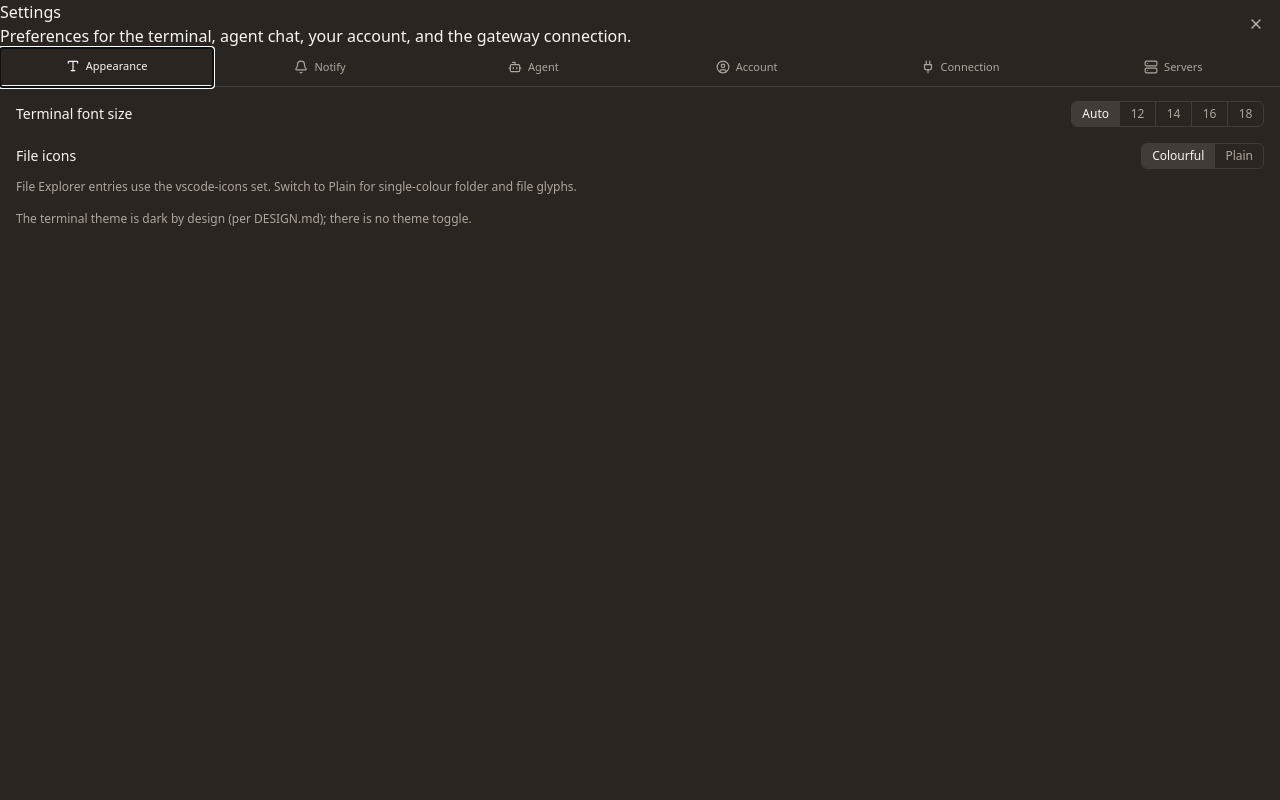
Scenario: SettingsDialog › shows connection details on the Connection tab
Click the tab "Connection" at (960, 67), box [853, 48, 1067, 86]
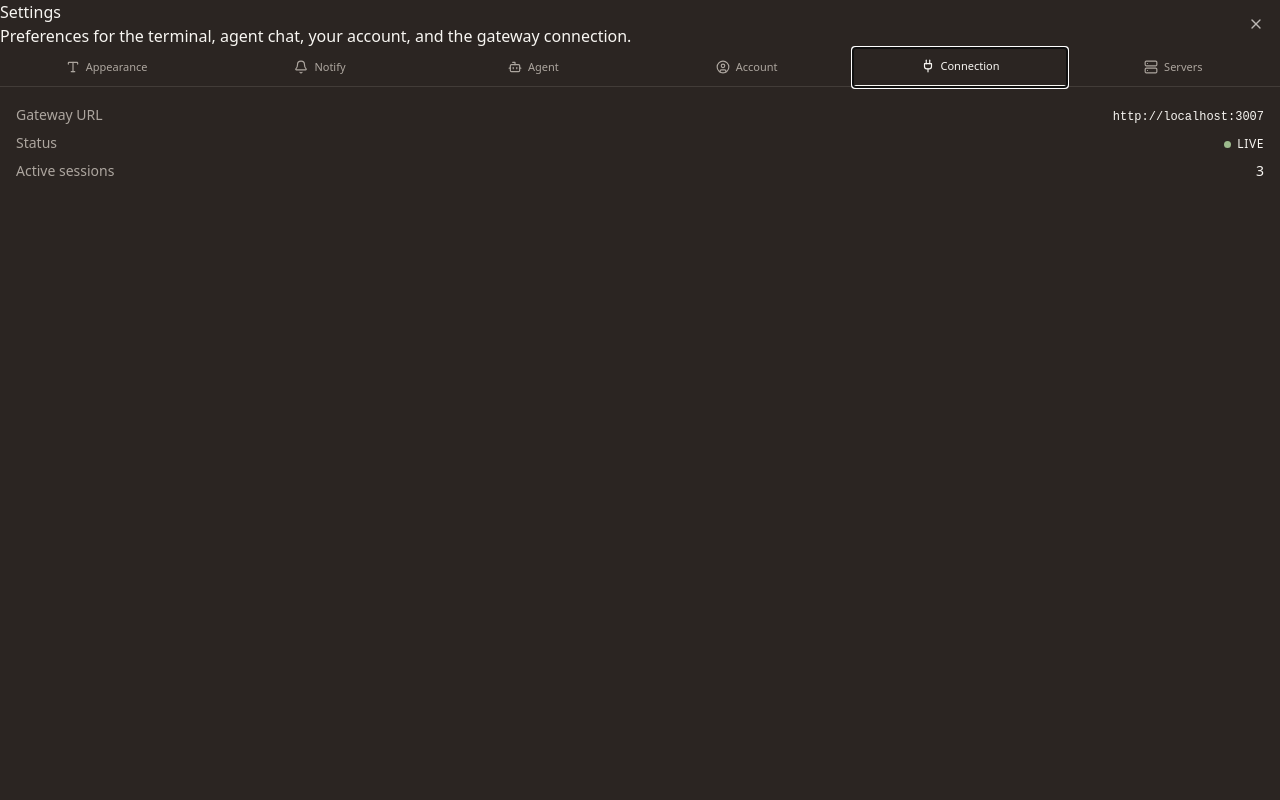
Result: the text "live" is shown at [1237, 136, 1264, 152]
Result: the text "3" is shown at [1256, 160, 1264, 180]
